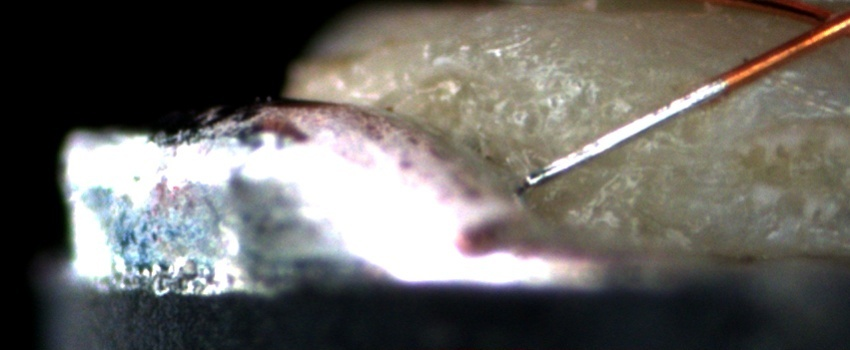CL: (801, 3, 850, 43)
TS: (520, 77, 729, 189)
